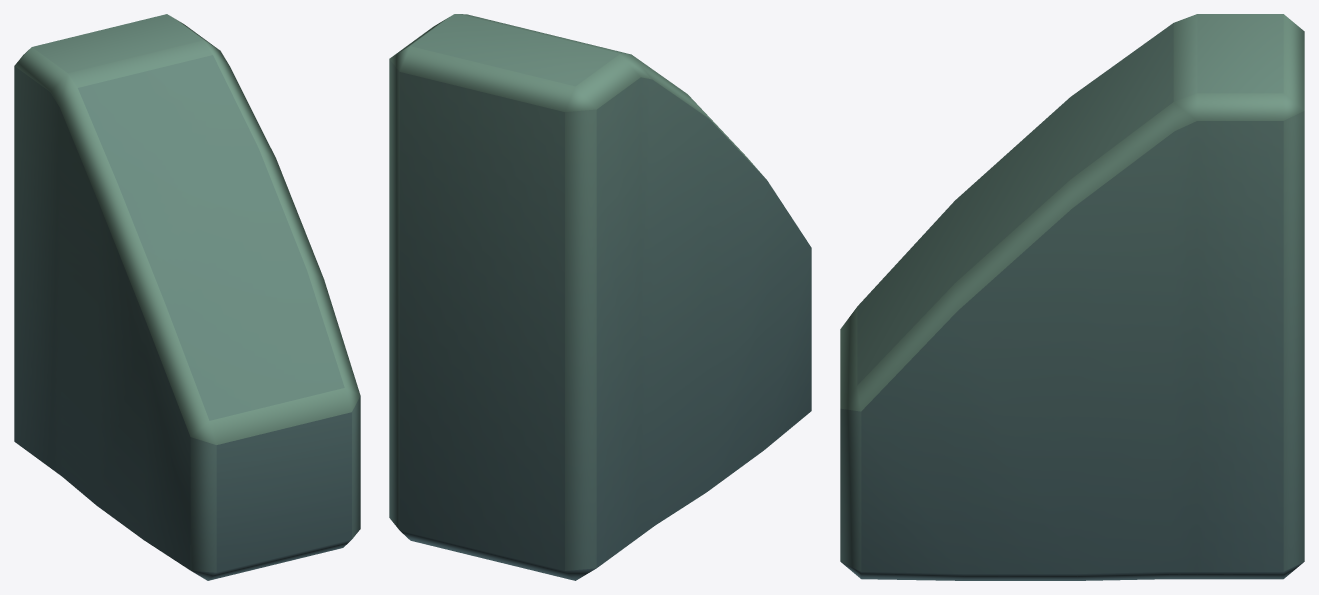
File: stair_sidewall_shade_1_LOD_setup.fbx
3 renders of one model, left to right at view 1: azimuth 30°, elevation 25°; view 2: azimuth 150°, elevation 25°; view 3: azimuth 270°, elevation 25°, orthographic. The views are drawn at different scales.
Parts seen in each view (by area): view 1: stair_sidewall_shade_1_LOD0; view 2: stair_sidewall_shade_1_LOD0; view 3: stair_sidewall_shade_1_LOD0.
Boxes of the visible parts, box(x1,y1,x2,y2) form: stair_sidewall_shade_1_LOD0: box(14, 14, 360, 580); stair_sidewall_shade_1_LOD0: box(389, 14, 811, 580); stair_sidewall_shade_1_LOD0: box(840, 14, 1304, 580).
Size of what is drawn, in the model's own units: 55.52 by 121 by 105.
